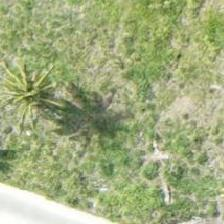coconut_tree: (0, 50, 68, 140)
